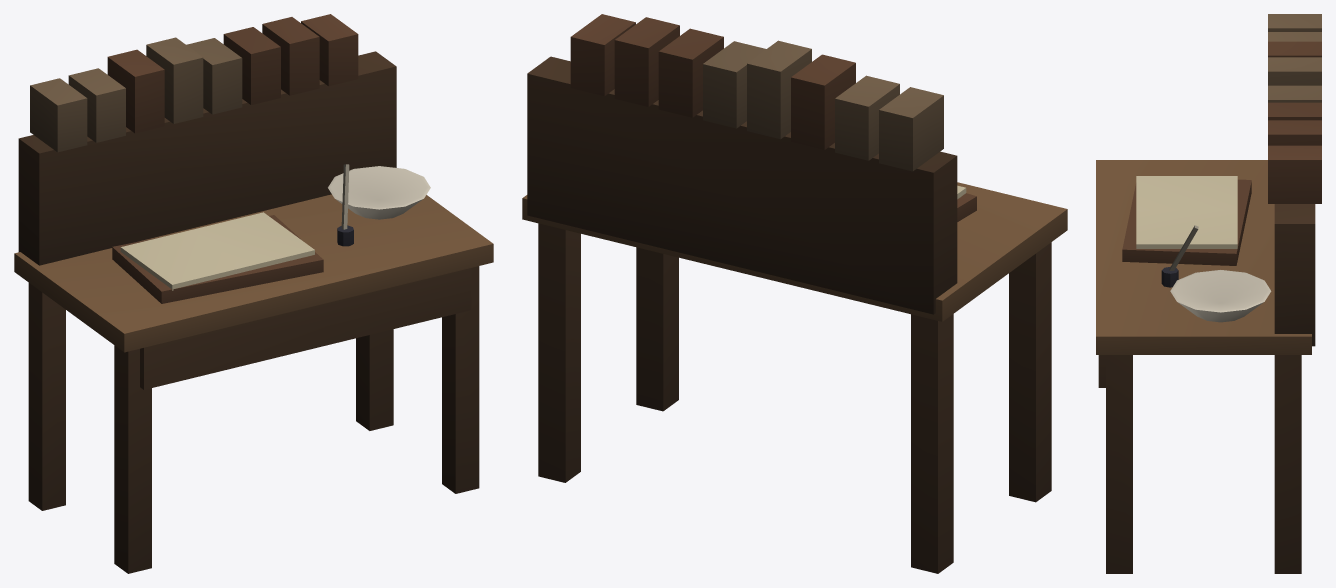
The model's file is ph_int_surgery_desk.glb.
3 views of the same model, side by side, from view 1: azimuth 30°, elevation 25°; view 2: azimuth 150°, elevation 25°; view 3: azimuth 270°, elevation 25° (orthographic). The views are drawn at different scales.
Parts seen in each view (by area): view 1: ph_int_surgery_desk; view 2: ph_int_surgery_desk; view 3: ph_int_surgery_desk.
Part boxes in pixels (x1,y1,x2,y2): ph_int_surgery_desk: (14,14,493,573); ph_int_surgery_desk: (522,14,1067,573); ph_int_surgery_desk: (1096,14,1321,573).
Bounding box in the file's own units: 1.24 × 1.34 × 0.67.
